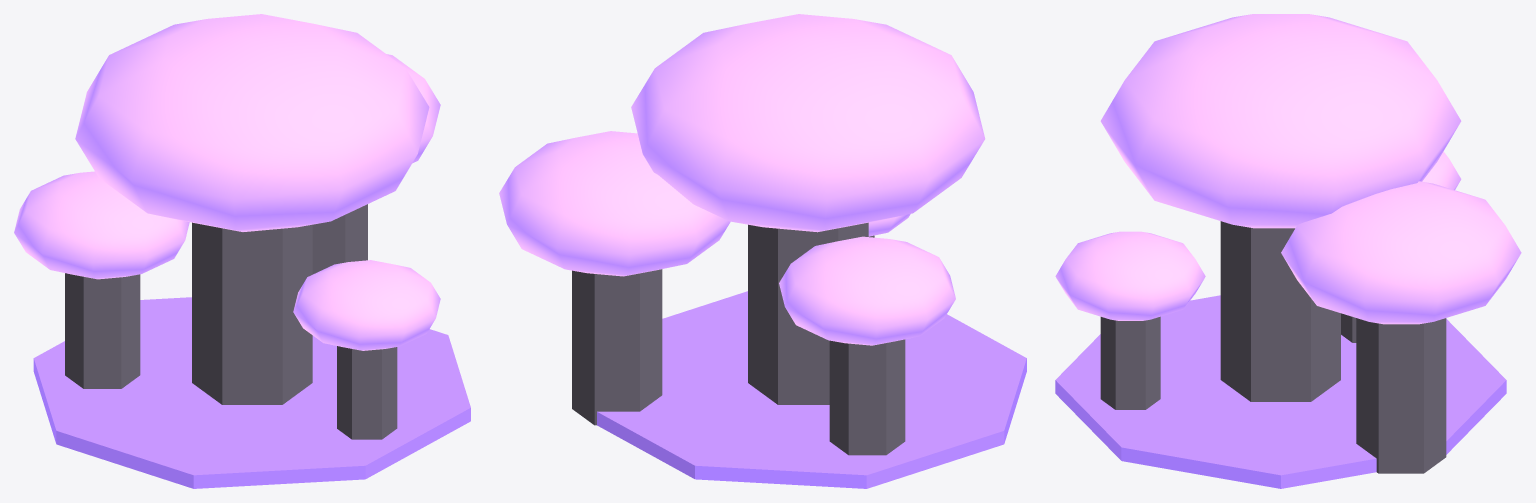
The model's file is mushroom_cluster.glb.
The picture shows the model from 3 angles, left to right: view 1: azimuth 30°, elevation 25°; view 2: azimuth 150°, elevation 25°; view 3: azimuth 270°, elevation 25°; orthographic projection.
Visible parts, largest first — view 1: Cap_0, GlowSpot, Stem_0, Cap_2, Cap_3, Stem_2, Stem_3, Stem_1, Cap_1; view 2: Cap_0, GlowSpot, Cap_1, Cap_2, Stem_1, Stem_0, Stem_2; view 3: Cap_0, GlowSpot, Cap_1, Stem_0, Stem_1, Cap_3, Stem_3, Cap_2.
Part boxes in pixels (x1,y1,x2,y2): Cap_0: (75, 14, 429, 231); GlowSpot: (33, 297, 470, 488); Stem_0: (192, 222, 312, 404); Cap_2: (14, 171, 189, 279); Cap_3: (293, 260, 440, 350); Stem_2: (65, 273, 140, 388); Stem_3: (337, 346, 397, 439); Stem_1: (312, 204, 367, 274); Cap_1: (386, 54, 440, 163); Cap_0: (631, 14, 985, 232); GlowSpot: (597, 291, 1026, 488); Cap_1: (499, 131, 730, 276); Cap_2: (779, 236, 955, 345); Stem_1: (572, 269, 662, 425); Stem_0: (748, 222, 868, 404); Stem_2: (829, 339, 905, 455); Cap_0: (1100, 14, 1461, 228); GlowSpot: (1055, 295, 1506, 488); Cap_1: (1281, 181, 1521, 324); Stem_0: (1220, 221, 1340, 401); Stem_1: (1356, 318, 1446, 473); Cap_3: (1055, 231, 1205, 320); Stem_3: (1100, 316, 1160, 409); Cap_2: (1422, 151, 1461, 189).
Size of the model in its own units: 0.3261 by 0.26 by 0.31.
